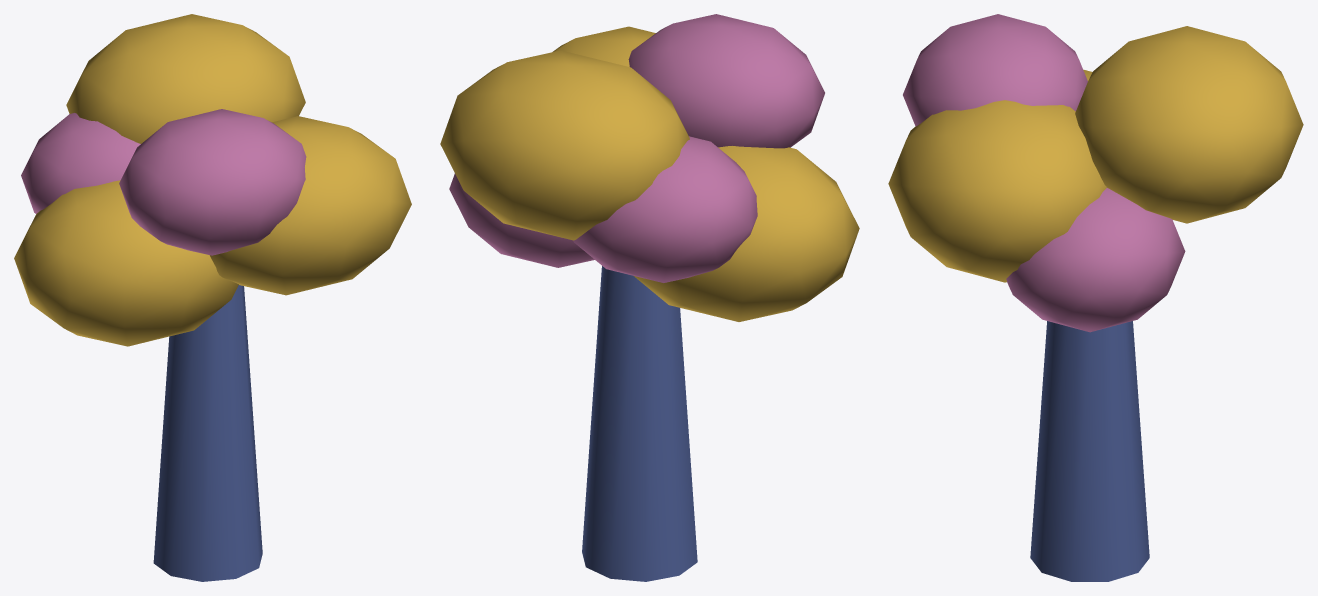
Rendered from boundary-cluster.glb.
3 views of the same model, side by side, from view 1: azimuth 30°, elevation 25°; view 2: azimuth 150°, elevation 25°; view 3: azimuth 270°, elevation 25° (orthographic). The views are drawn at different scales.
Visible parts, largest first — view 1: trunk, crown_3, crown_2, crown_5, crown_1, crown_4; view 2: crown_5, trunk, crown_3, crown_2, crown_4, crown_0, crown_1; view 3: crown_5, crown_1, trunk, crown_0, crown_2.
Boxes of the visible parts, left/top/right/bottom form: trunk: left=153, top=285, right=262, bottom=581; crown_3: left=14, top=180, right=238, bottom=346; crown_2: left=119, top=109, right=306, bottom=255; crown_5: left=66, top=14, right=305, bottom=143; crown_1: left=210, top=116, right=411, bottom=295; crown_4: left=21, top=113, right=140, bottom=213; crown_5: left=440, top=50, right=689, bottom=240; trunk: left=582, top=266, right=697, bottom=581; crown_3: left=634, top=146, right=859, bottom=321; crown_2: left=628, top=14, right=824, bottom=148; crown_4: left=573, top=136, right=757, bottom=282; crown_0: left=449, top=173, right=594, bottom=267; crown_1: left=552, top=26, right=655, bottom=66; crown_5: left=1075, top=26, right=1303, bottom=223; crown_1: left=888, top=100, right=1106, bottom=282; trunk: left=1030, top=321, right=1149, bottom=581; crown_0: left=1006, top=188, right=1185, bottom=332; crown_2: left=903, top=14, right=1087, bottom=126.
Size of what is drawn, in the model's own units: 4.59 by 6.03 by 4.31.
